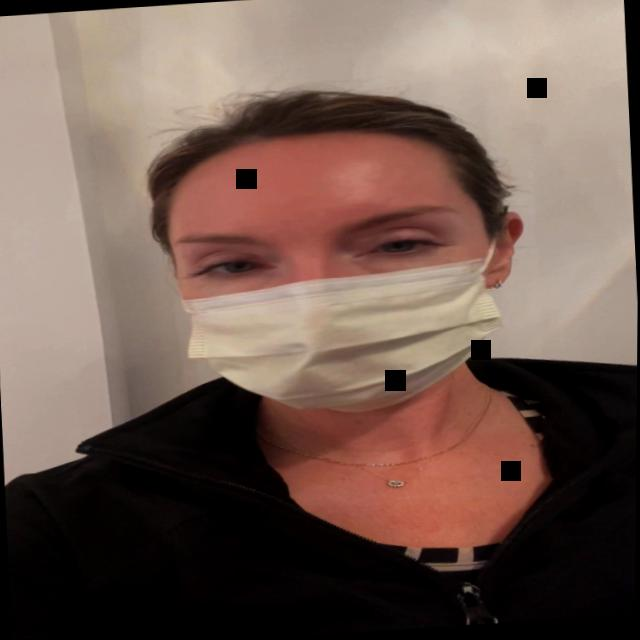Mask: (132, 100, 551, 451)
